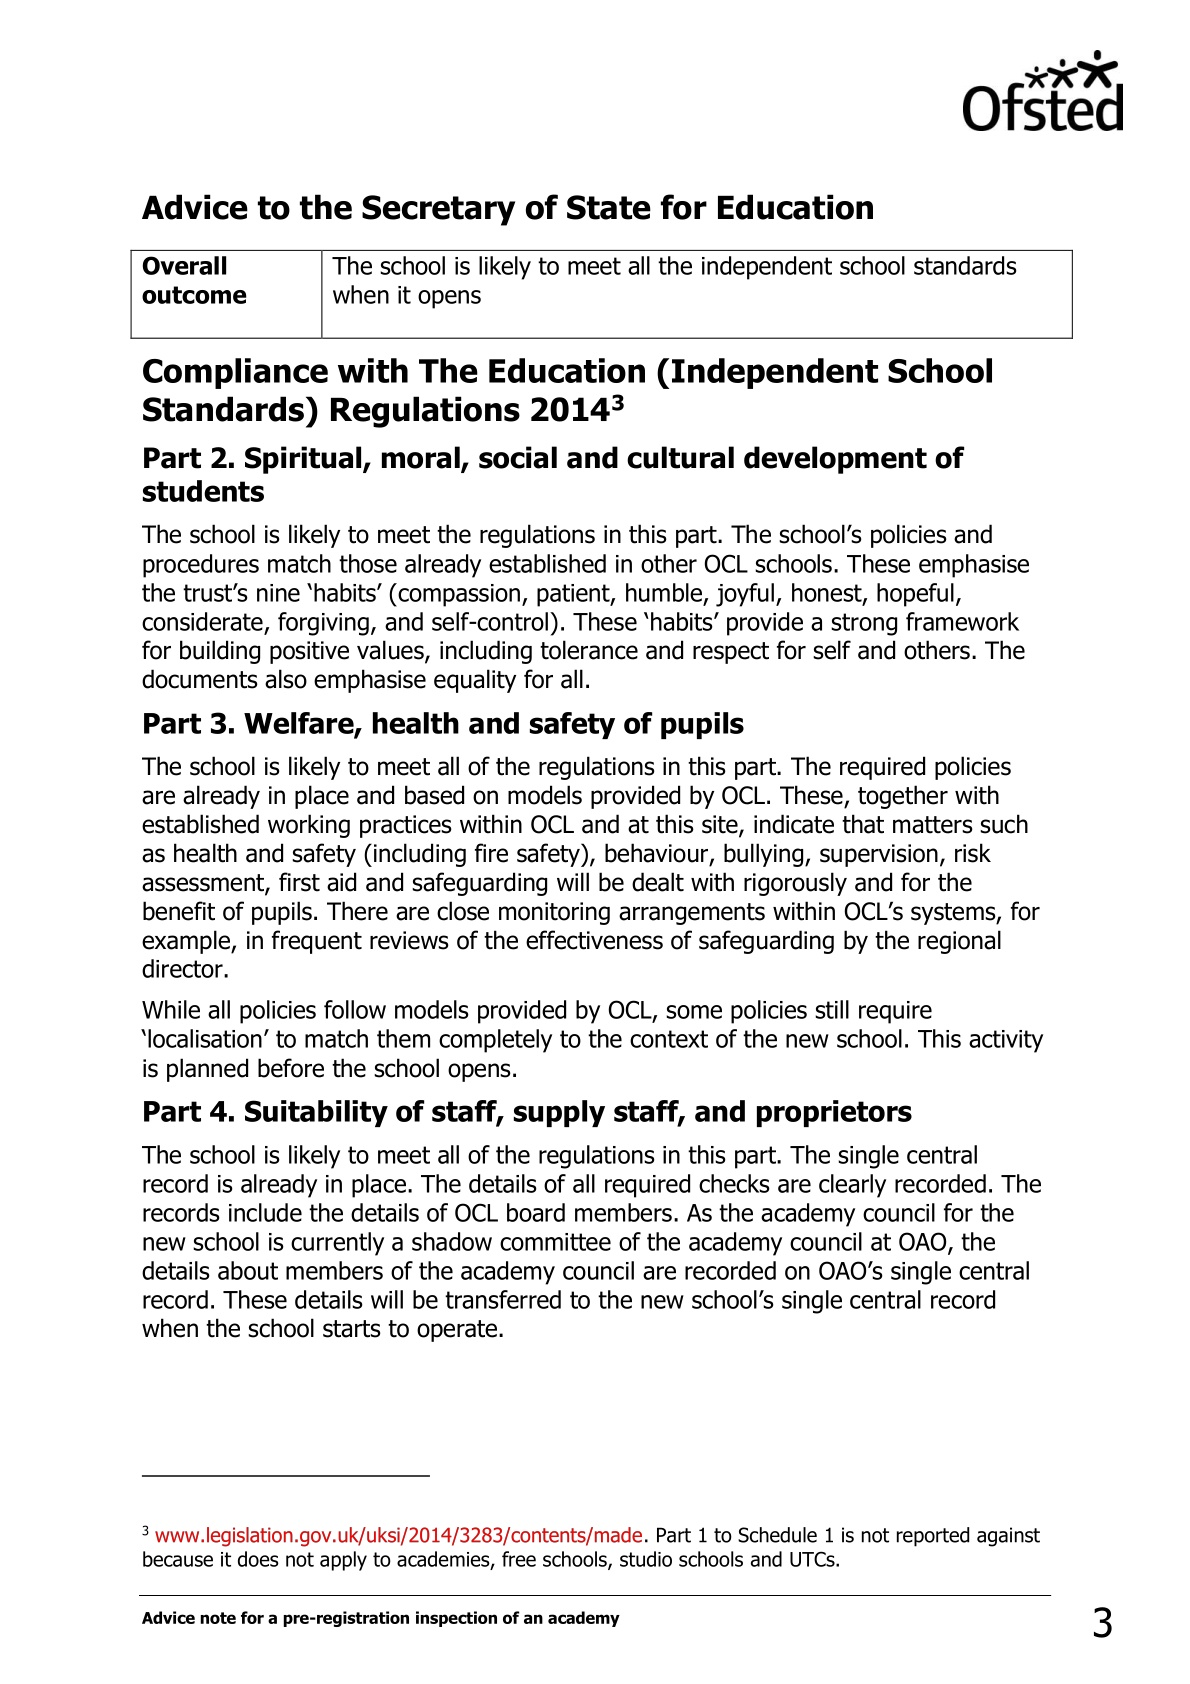full_lined: (129, 247, 1074, 340)
